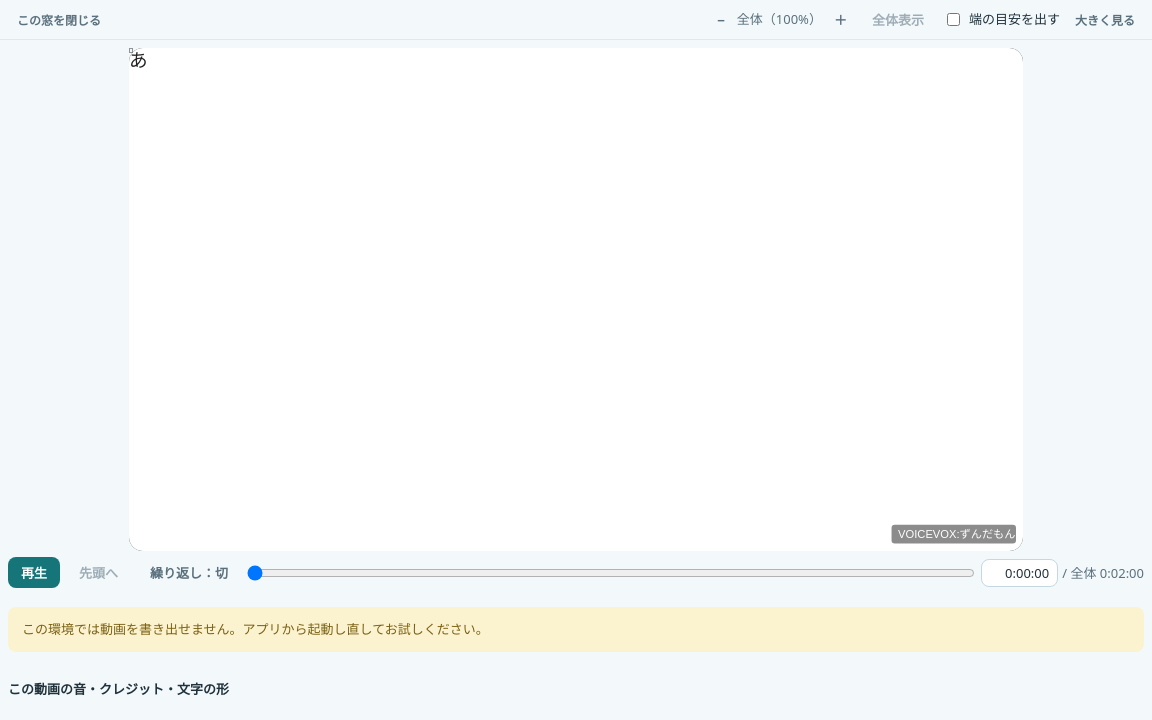
仕上がり確認の別窓（ADR-0050）＝別窓の側 › 「再生」は本体へ頼む（手元の再生の印は、本体の写しで変わる）
Click the button "再生". click: x=34, y=573
box: x1=8 y1=557 x2=60 y2=588
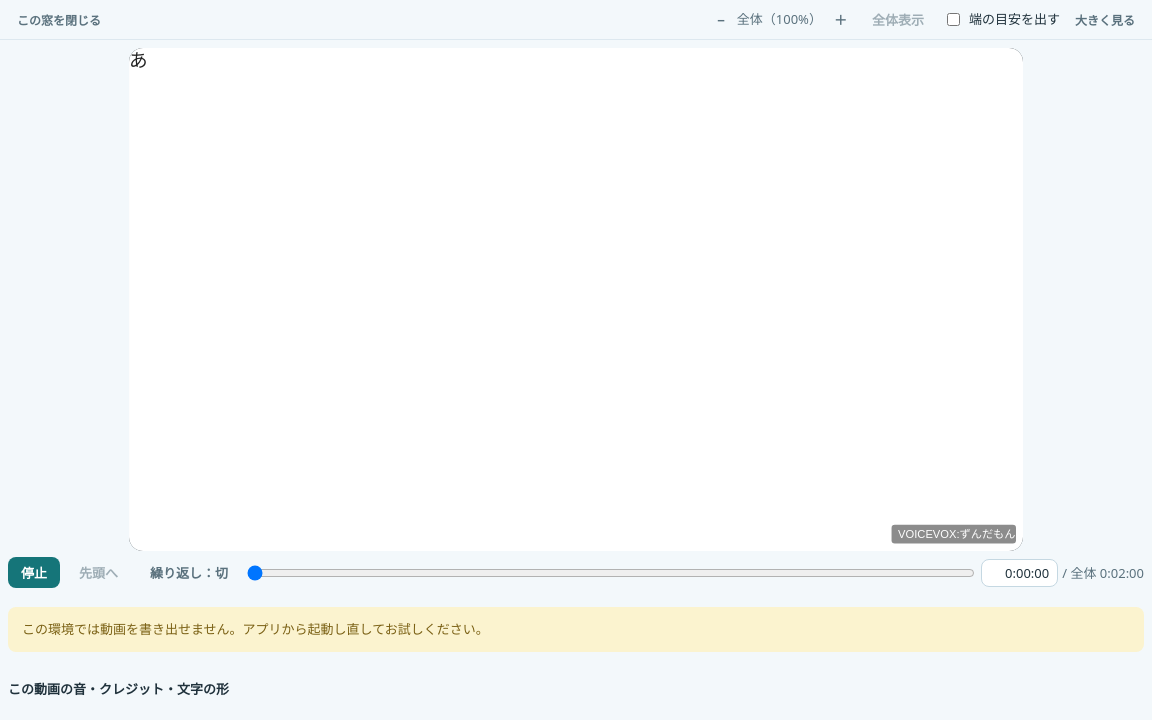
Check: the button "停止" is shown, box x1=8 y1=557 x2=60 y2=588
